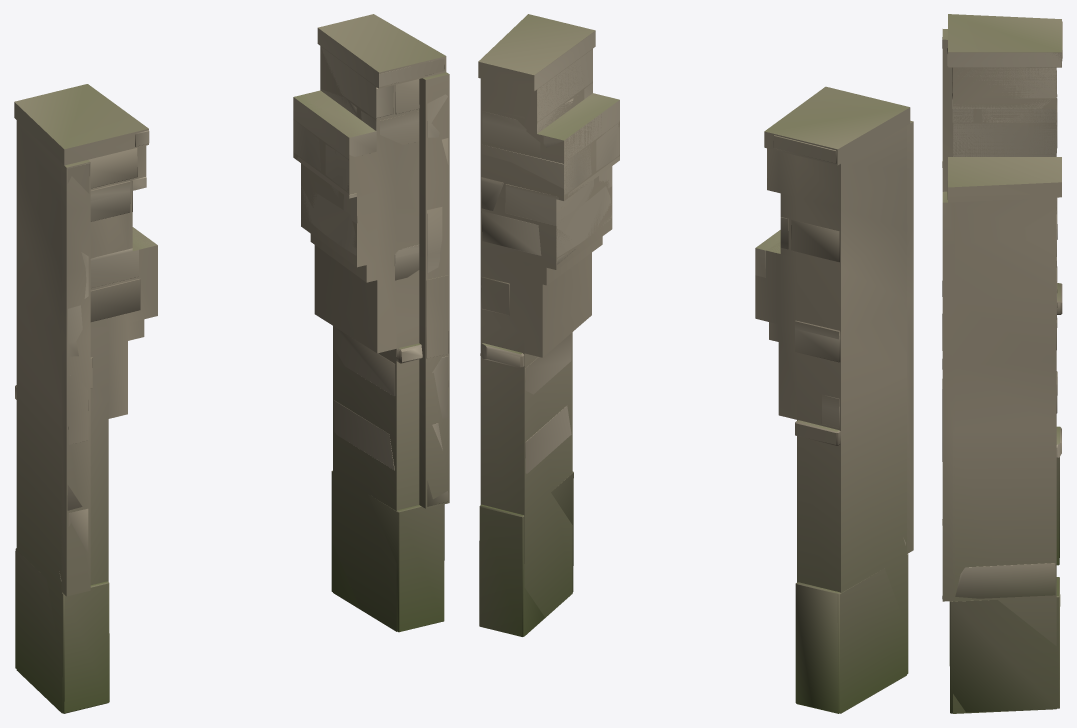
The model's file is arena_outer_gapped.glb.
3 views of the same model, side by side, from view 1: azimuth 30°, elevation 25°; view 2: azimuth 150°, elevation 25°; view 3: azimuth 270°, elevation 25° (orthographic). The views are drawn at different scales.
Parts seen in each view (by area): view 1: arena_outer_gapped_far, arena_outer_gapped; view 2: arena_outer_gapped_far, arena_outer_gapped; view 3: arena_outer_gapped_far, arena_outer_gapped.
Part boxes in pixels (x1,y1,x2,y2): arena_outer_gapped_far: (14, 14, 449, 713); arena_outer_gapped: (15, 28, 448, 713); arena_outer_gapped_far: (478, 14, 913, 713); arena_outer_gapped: (479, 31, 908, 713); arena_outer_gapped_far: (942, 14, 1061, 713); arena_outer_gapped: (942, 21, 1062, 713).
Size of the model in its own units: 19.83 by 28 by 5.79.
